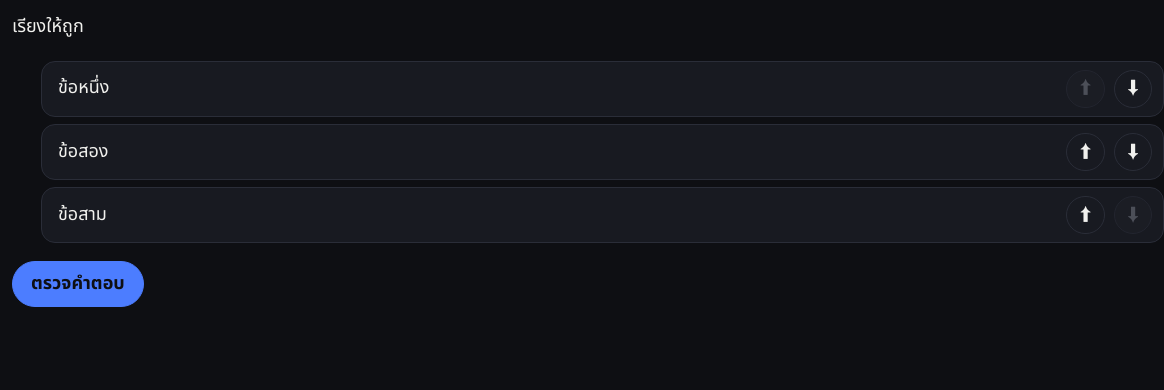
Scenario: ActivityView feedback › falls back to explainTh when rightTh is missing
The width and height of the screenshot is (1164, 390).
Click the button "ตรวจคำตอบ" at (78, 284), box [12,261,144,307]
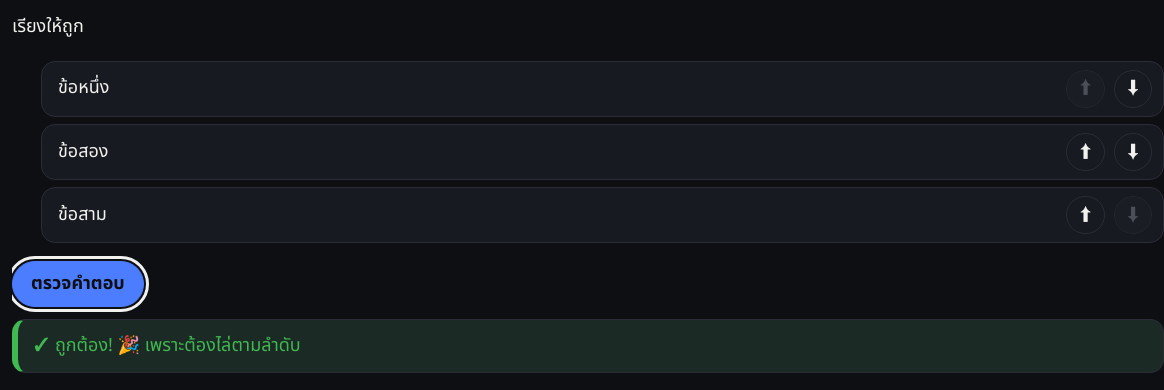
Expected: the text "ถูกต้อง! 🎉 เพราะต้องไล่ตามลำดับ" is shown, [12,319,1163,373]
